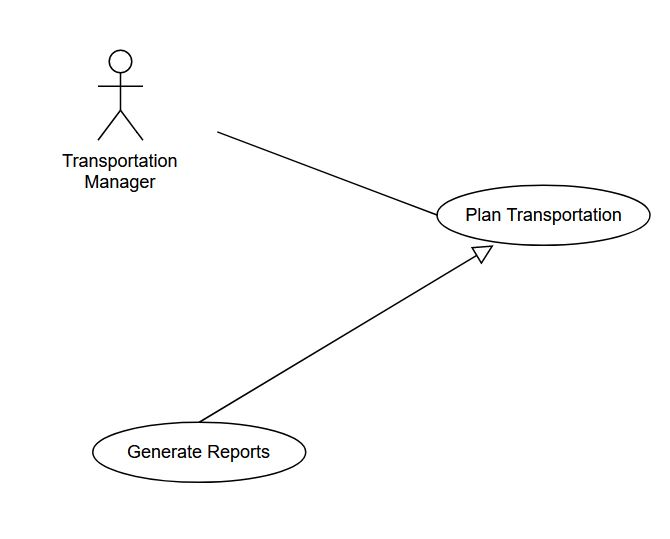actor: (94, 49, 147, 143)
association: (216, 129, 435, 215)
generalization: (200, 243, 495, 420)
text: (51, 152, 182, 192), (464, 202, 624, 226), (127, 440, 272, 464)
use_case: (91, 420, 309, 485), (435, 183, 651, 248)
